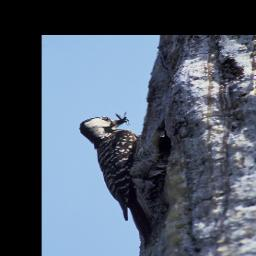Woodpecker: (78, 110, 171, 250)
